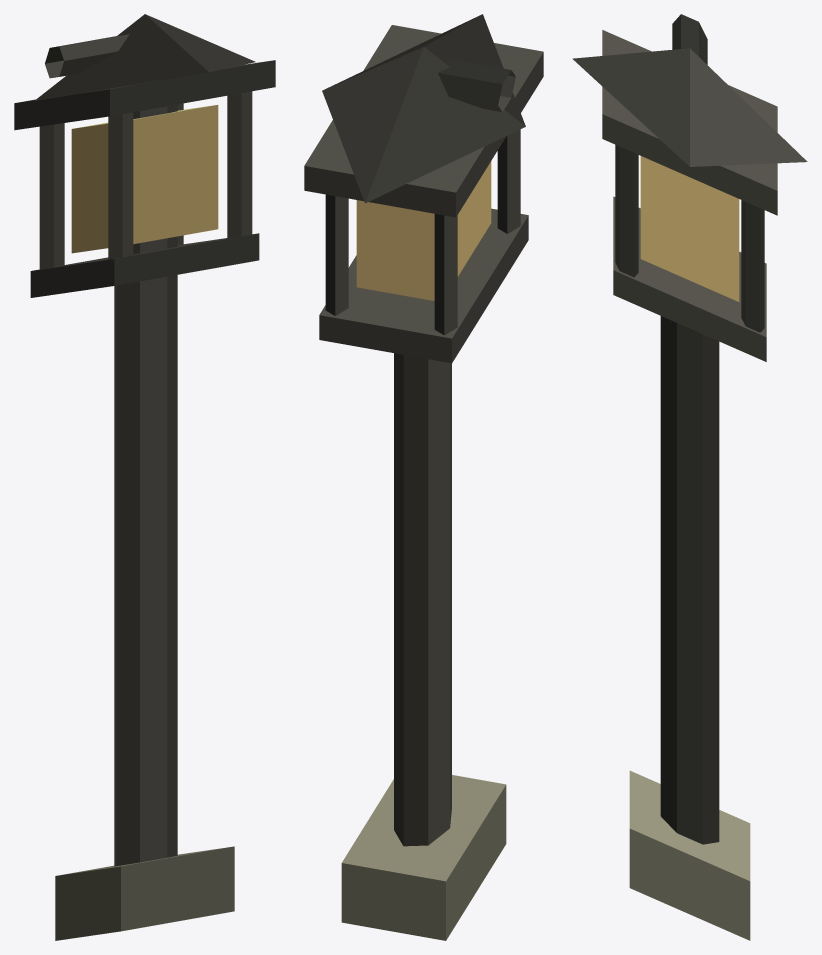
3 renders of one model, left to right at view 1: azimuth 30°, elevation 25°; view 2: azimuth 150°, elevation 25°; view 3: azimuth 270°, elevation 25°, orthographic. The views are drawn at different scales.
Visible parts, largest first — view 1: c3e79d547d595384d2333c730d8adc625655472b92fa2bf354a36d60194e; view 2: c3e79d547d595384d2333c730d8adc625655472b92fa2bf354a36d60194e; view 3: c3e79d547d595384d2333c730d8adc625655472b92fa2bf354a36d60194e.
Boxes of the visible parts, <box> form: c3e79d547d595384d2333c730d8adc625655472b92fa2bf354a36d60194e: <box>14,14,275,940</box>; c3e79d547d595384d2333c730d8adc625655472b92fa2bf354a36d60194e: <box>304,14,543,940</box>; c3e79d547d595384d2333c730d8adc625655472b92fa2bf354a36d60194e: <box>572,14,807,940</box>.
Size of the model in its own units: 0.86 by 3.49 by 0.86.
Materials: 2 (1 with a texture image).
